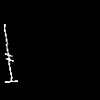treble_crochet: (4, 24, 17, 82)
